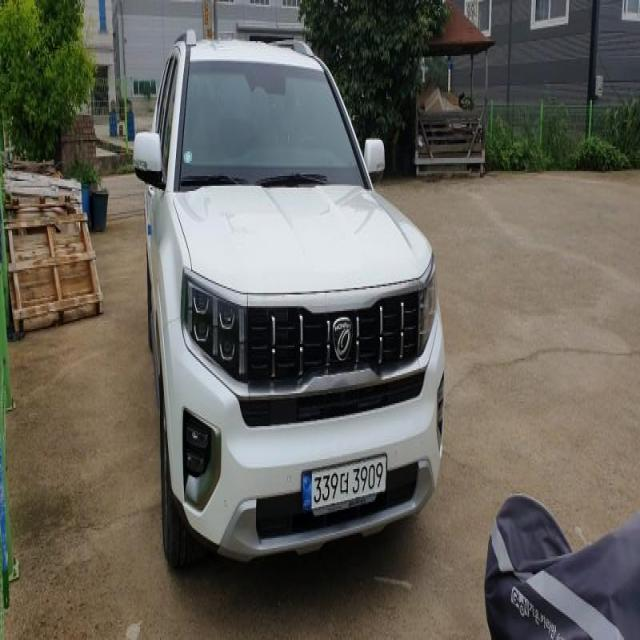car: (126, 21, 452, 594)
illegal_plate: (306, 453, 386, 524)
